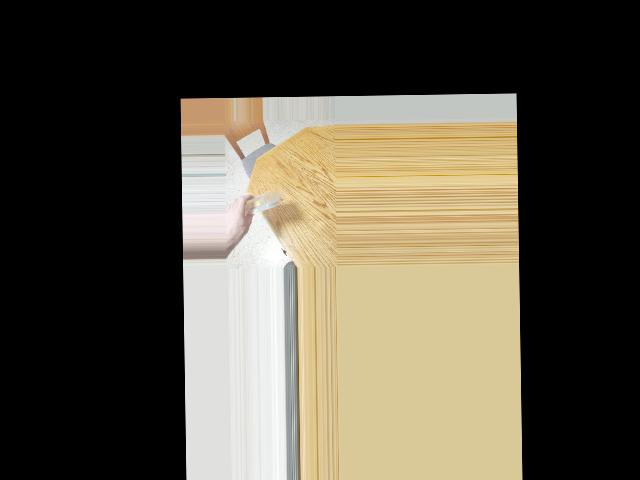cheese: (244, 187, 276, 216)
